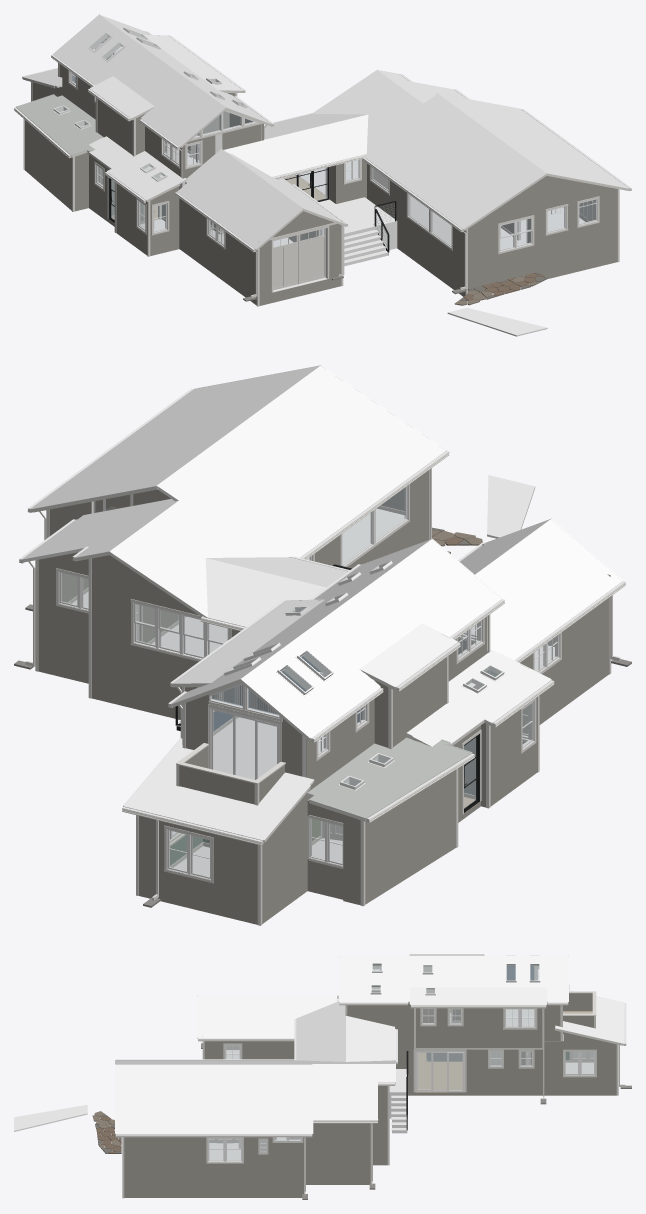
3 renders of one model, top to bottom at view 1: azimuth 30°, elevation 25°; view 2: azimuth 150°, elevation 25°; view 3: azimuth 270°, elevation 25°, orthographic. The views are drawn at different scales.
Parts seen in each view (by area): view 1: roofs|L1|comp-shingle-arch, walls|L1|hardie-lap#paint-ext-body, walls|L0|hardie-lap#paint-ext-body, walls|L2|hardie-lap#paint-ext-body, trim|-|hardie-trim#paint-ext-trim, roofs|L1|modbit-torchdown, glass|L1|glass, trim|-|comp-shingle-arch, trim|-|aluminum-gutter, walls|LG|hardie-lap#paint-ext-body, floors|L1|oak-red-lauzon-vela, trim|-|gutter-guard (+22 smaller); view 2: roofs|L1|comp-shingle-arch, walls|L0|hardie-lap#paint-ext-body, walls|L1|hardie-lap#paint-ext-body, walls|L2|hardie-lap#paint-ext-body, roofs|L1|modbit-torchdown, glass|L1|glass, trim|-|aluminum-gutter, trim|-|comp-shingle-arch, trim|-|hardie-trim#paint-ext-trim, trim|-|gutter-guard, floors|L2|oak-red-lauzon-vela, floors|L1|oak-red-lauzon-vela (+20 smaller); view 3: roofs|L1|comp-shingle-arch, walls|L1|hardie-lap#paint-ext-body, walls|L0|hardie-lap#paint-ext-body, walls|L2|hardie-lap#paint-ext-body, trim|-|comp-shingle-arch, trim|-|aluminum-gutter, trim|-|hardie-trim#paint-ext-trim, walls|LG|hardie-lap#paint-ext-body, trim|-|gutter-guard, floors|L0|stone-tile-24, site|-|paver-tumbled, glass|L0|glass (+18 smaller).
Part boxes in pixels (x1,y1,x2,y2): roofs|L1|comp-shingle-arch: [24, 15, 628, 248]; walls|L1|hardie-lap#paint-ext-body: [329, 160, 617, 296]; walls|L0|hardie-lap#paint-ext-body: [25, 82, 256, 305]; walls|L2|hardie-lap#paint-ext-body: [59, 53, 263, 178]; trim|-|hardie-trim#paint-ext-trim: [68, 70, 599, 292]; roofs|L1|modbit-torchdown: [17, 94, 103, 154]; glass|L1|glass: [346, 160, 595, 249]; trim|-|comp-shingle-arch: [23, 14, 629, 249]; trim|-|aluminum-gutter: [14, 55, 631, 252]; walls|LG|hardie-lap#paint-ext-body: [259, 167, 340, 305]; floors|L1|oak-red-lauzon-vela: [300, 160, 585, 249]; trim|-|gutter-guard: [14, 31, 631, 249]; roofs|L1|comp-shingle-arch: [23, 366, 621, 839]; walls|L0|hardie-lap#paint-ext-body: [139, 598, 608, 924]; walls|L1|hardie-lap#paint-ext-body: [38, 470, 428, 719]; walls|L2|hardie-lap#paint-ext-body: [179, 616, 487, 804]; roofs|L1|modbit-torchdown: [307, 737, 470, 817]; glass|L1|glass: [61, 487, 405, 656]; trim|-|aluminum-gutter: [19, 452, 625, 845]; trim|-|comp-shingle-arch: [22, 365, 623, 840]; trim|-|hardie-trim#paint-ext-trim: [56, 484, 561, 883]; trim|-|gutter-guard: [19, 388, 625, 841]; floors|L2|oak-red-lauzon-vela: [213, 717, 323, 779]; floors|L1|oak-red-lauzon-vela: [72, 508, 405, 656]; roofs|L1|comp-shingle-arch: [115, 955, 623, 1133]; walls|L1|hardie-lap#paint-ext-body: [124, 1086, 387, 1197]; walls|L0|hardie-lap#paint-ext-body: [396, 1032, 616, 1095]; walls|L2|hardie-lap#paint-ext-body: [345, 993, 593, 1047]; trim|-|comp-shingle-arch: [115, 954, 624, 1134]; trim|-|aluminum-gutter: [115, 1002, 626, 1137]; trim|-|hardie-trim#paint-ext-trim: [206, 1008, 596, 1163]; walls|LG|hardie-lap#paint-ext-body: [204, 1041, 294, 1059]; trim|-|gutter-guard: [115, 954, 626, 1134]; floors|L0|stone-tile-24: [415, 1052, 464, 1092]; site|-|paver-tumbled: [14, 1104, 87, 1131]; glass|L0|glass: [491, 1052, 593, 1073].
Size of the model in its own units: 69.8 by 23.52 by 109.
